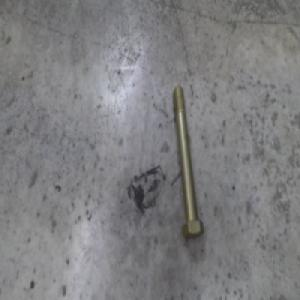Bolt: (170, 85, 202, 238)
